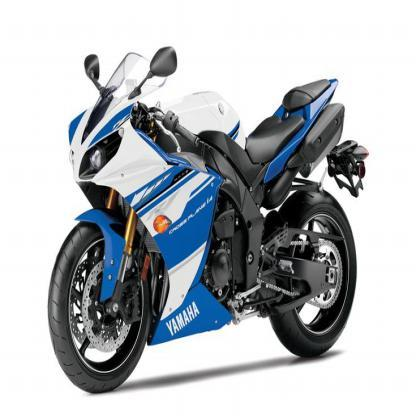Motorcycle: (42, 27, 371, 400)
